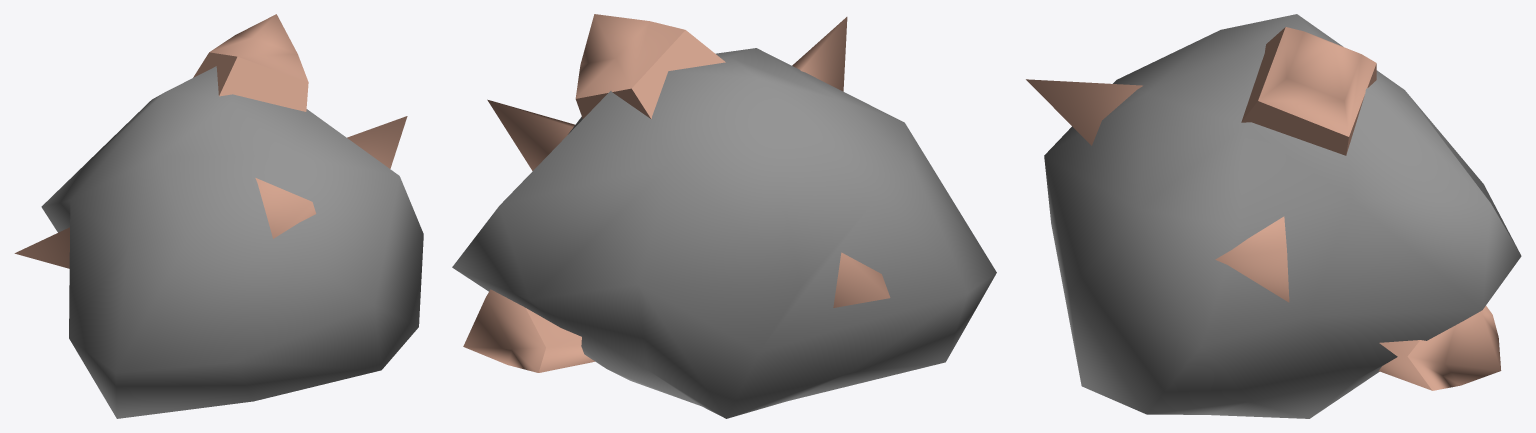
Rendered from Mineral.fbx.
The picture shows the model from 3 angles, left to right: view 1: azimuth 30°, elevation 25°; view 2: azimuth 150°, elevation 25°; view 3: azimuth 270°, elevation 25°; orthographic projection. The views are drawn at different scales.
Visible parts, largest first — view 1: Icosphere; view 2: Icosphere; view 3: Icosphere.
Part boxes in pixels (x1=…): Icosphere: x1=14, y1=14, x2=423, y2=418; Icosphere: x1=452, y1=14, x2=996, y2=418; Icosphere: x1=1026, y1=14, x2=1521, y2=418.
Size of the model in its own units: 389 by 314 by 365.
